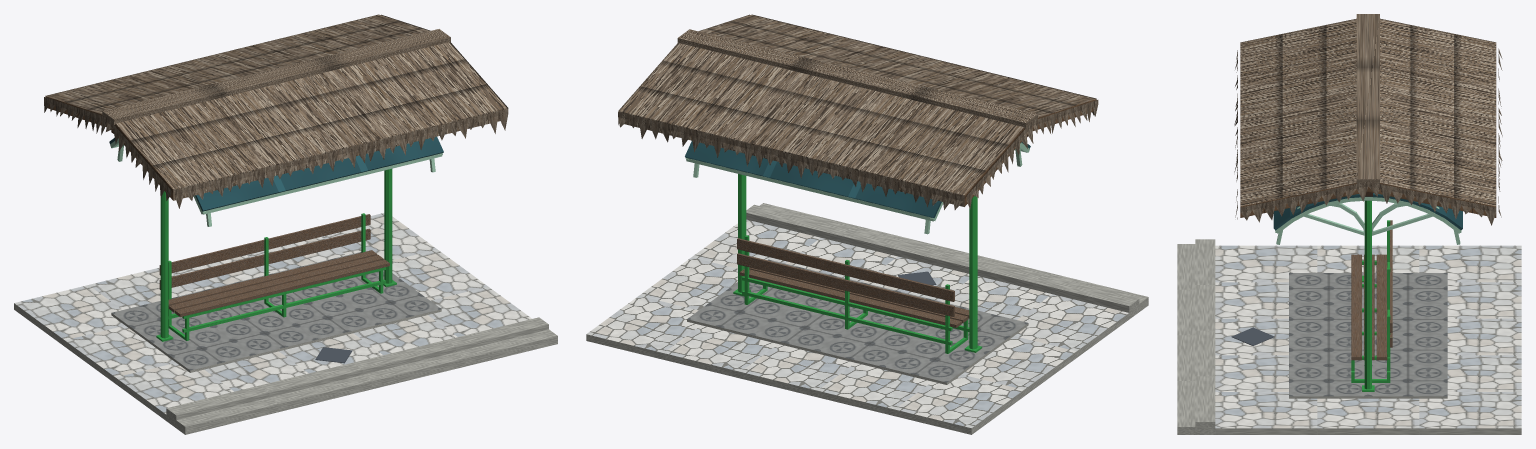
Rendered from halte_tempat_duduk_web.glb.
3 renders of one model, left to right at view 1: azimuth 30°, elevation 25°; view 2: azimuth 150°, elevation 25°; view 3: azimuth 270°, elevation 25°, orthographic. The views are drawn at different scales.
Parts seen in each view (by area): view 1: Halte_Tempat_Duduk; view 2: Halte_Tempat_Duduk; view 3: Halte_Tempat_Duduk.
Part boxes in pixels (box(x1,y1,x2,y2)): Halte_Tempat_Duduk: box(14, 14, 557, 434); Halte_Tempat_Duduk: box(586, 14, 1148, 434); Halte_Tempat_Duduk: box(1177, 14, 1521, 434).
Bounding box in the file's own units: 4.8 × 3.03 × 3.82.
1 material, 1 textured.
